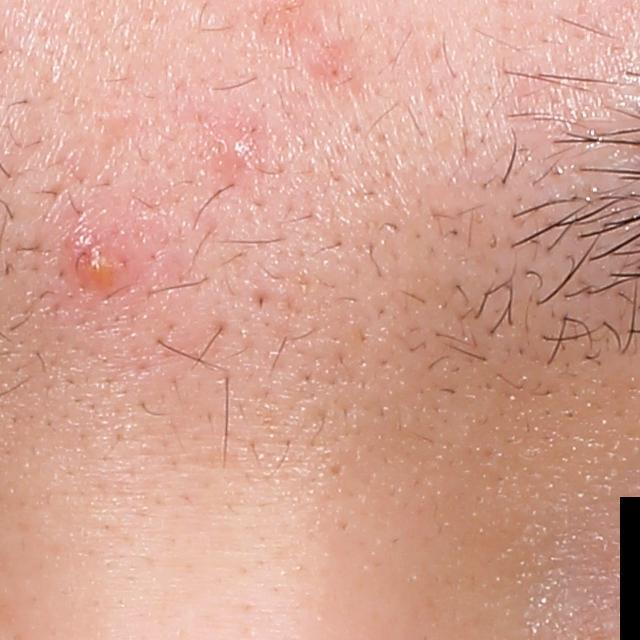papule: (62, 229, 125, 292), (220, 121, 269, 179)
